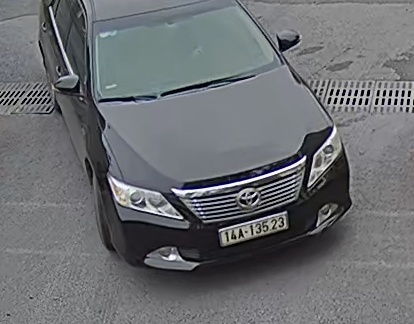vehicle plate: (214, 209, 288, 247)
